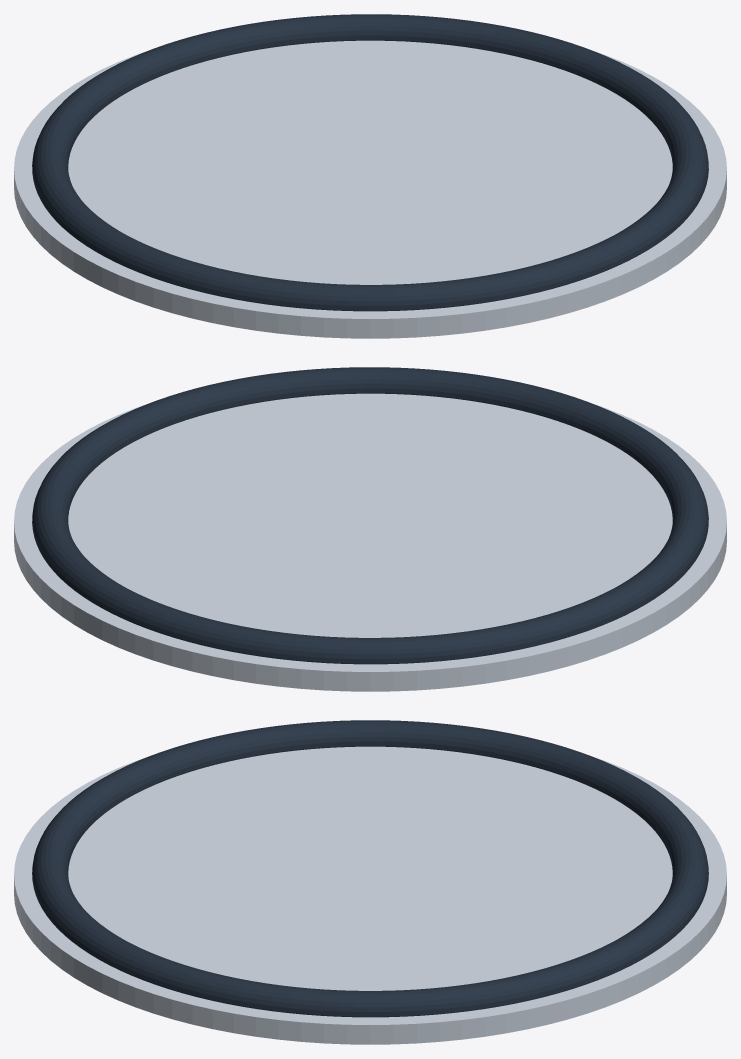
The model's file is bezel_diver_40mm_v1.glb.
3 views of the same model, one above another, from view 1: azimuth 30°, elevation 25°; view 2: azimuth 150°, elevation 25°; view 3: azimuth 270°, elevation 25° (orthographic).
Visible parts, largest first — view 1: DD_BEZEL_RING, DD_BEZEL_INSERT; view 2: DD_BEZEL_RING, DD_BEZEL_INSERT; view 3: DD_BEZEL_RING, DD_BEZEL_INSERT.
Part boxes in pixels (x1,y1,x2,y2): DD_BEZEL_RING: (14,40,726,338); DD_BEZEL_INSERT: (32,14,708,311); DD_BEZEL_RING: (14,393,726,691); DD_BEZEL_INSERT: (32,367,708,664); DD_BEZEL_RING: (14,746,726,1044); DD_BEZEL_INSERT: (32,720,708,1017).
Bounding box in the file's own units: 39.4 × 2.25 × 39.4.
